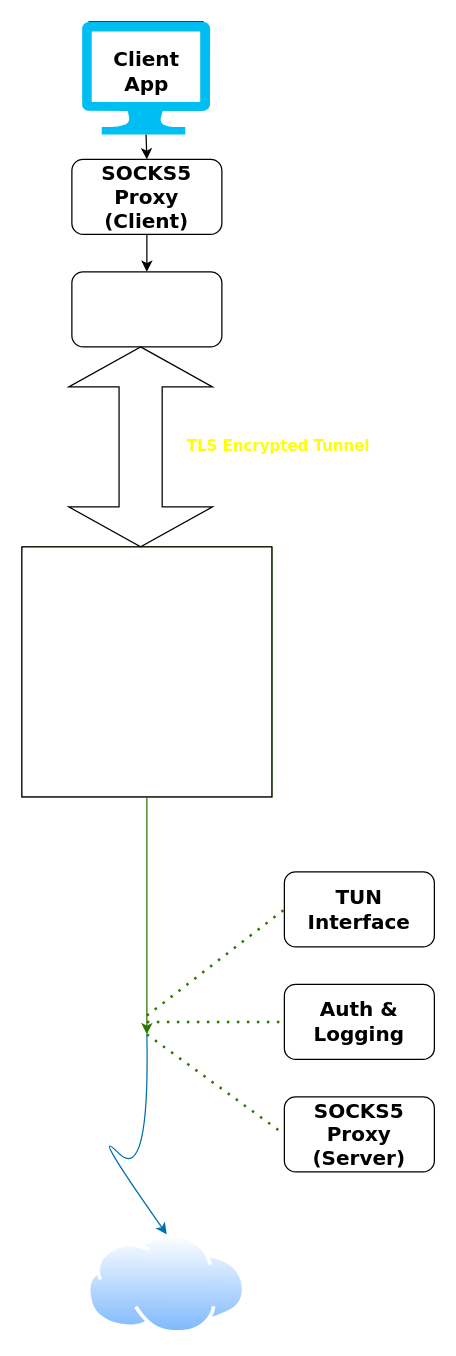
The diagram is 456 pixels wide and 1356 high, and some of its shapes have lost their labels. The shapes that lost their labels are listed below. From the top down, each one's box as (x1, y1, x2, y2) in pixels, then its label:
(71, 271, 222, 347): TUN Interface (Client)
(21, 546, 272, 797): VPN Server
(87, 1234, 246, 1334): Internet
